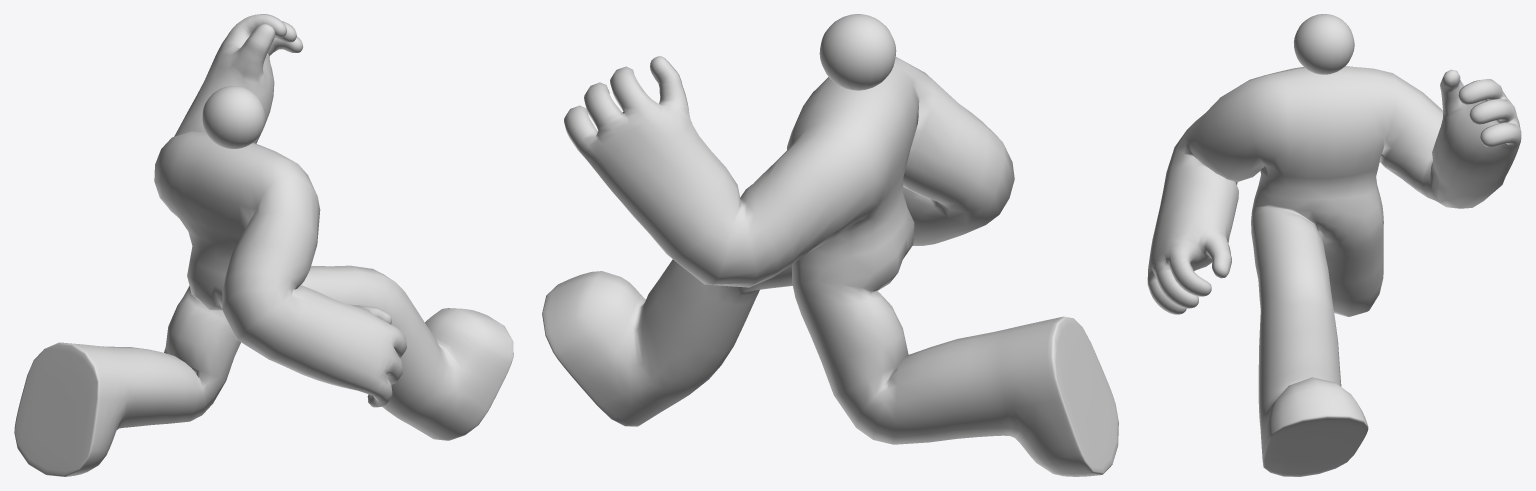
Rendered from kv1-man1.gltf.
3 renders of one model, left to right at view 1: azimuth 30°, elevation 25°; view 2: azimuth 150°, elevation 25°; view 3: azimuth 270°, elevation 25°, orthographic. The views are drawn at different scales.
Visible parts, largest first — view 1: man1; view 2: man1; view 3: man1.
Boxes of the visible parts, bbox=[...] form: man1: bbox=[14, 14, 513, 476]; man1: bbox=[542, 14, 1118, 476]; man1: bbox=[1147, 14, 1521, 476].
Size of the model in its own units: 34.33 by 27.29 by 24.87.
Materials: 1 (1 with a texture image).
